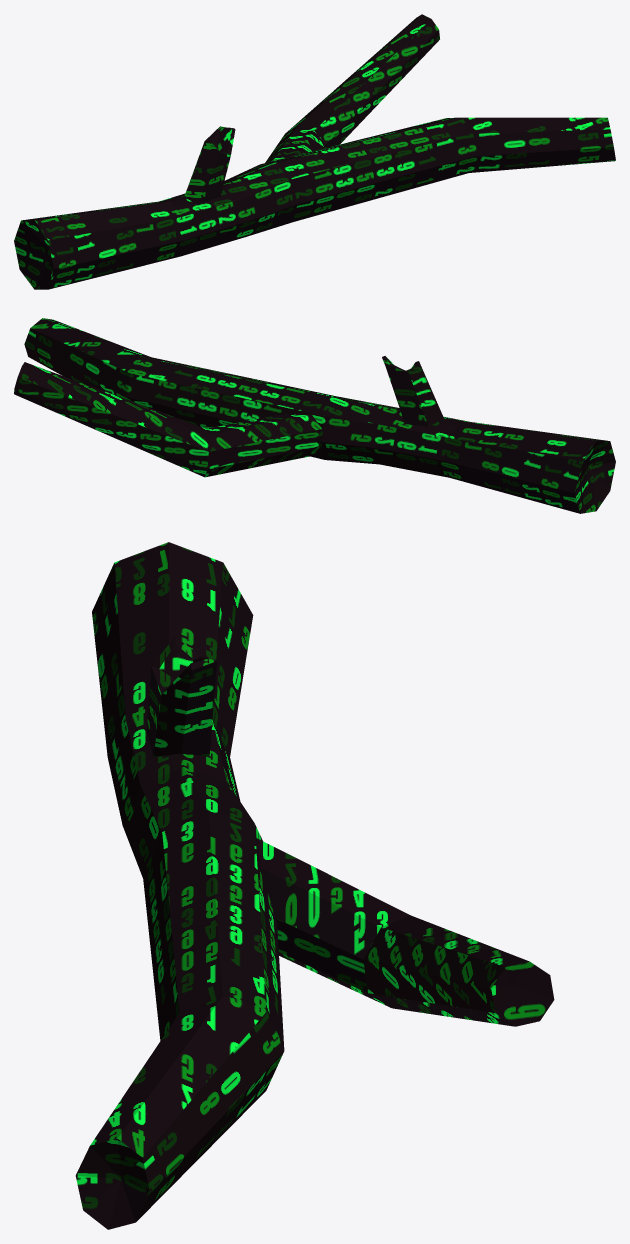
Rendered from Branch_code.fbx.
3 renders of one model, top to bottom at view 1: azimuth 30°, elevation 25°; view 2: azimuth 150°, elevation 25°; view 3: azimuth 270°, elevation 25°, orthographic. The views are drawn at different scales.
Parts seen in each view (by area): view 1: Branch_code; view 2: Branch_code; view 3: Branch_code.
Part boxes in pixels (box(x1,y1,x2,y2)): Branch_code: box(14, 14, 615, 289); Branch_code: box(14, 318, 615, 513); Branch_code: box(75, 542, 554, 1229).
Bounding box in the file's own units: 0.5712 × 0.1063 × 0.2077.
1 material, 1 textured.
